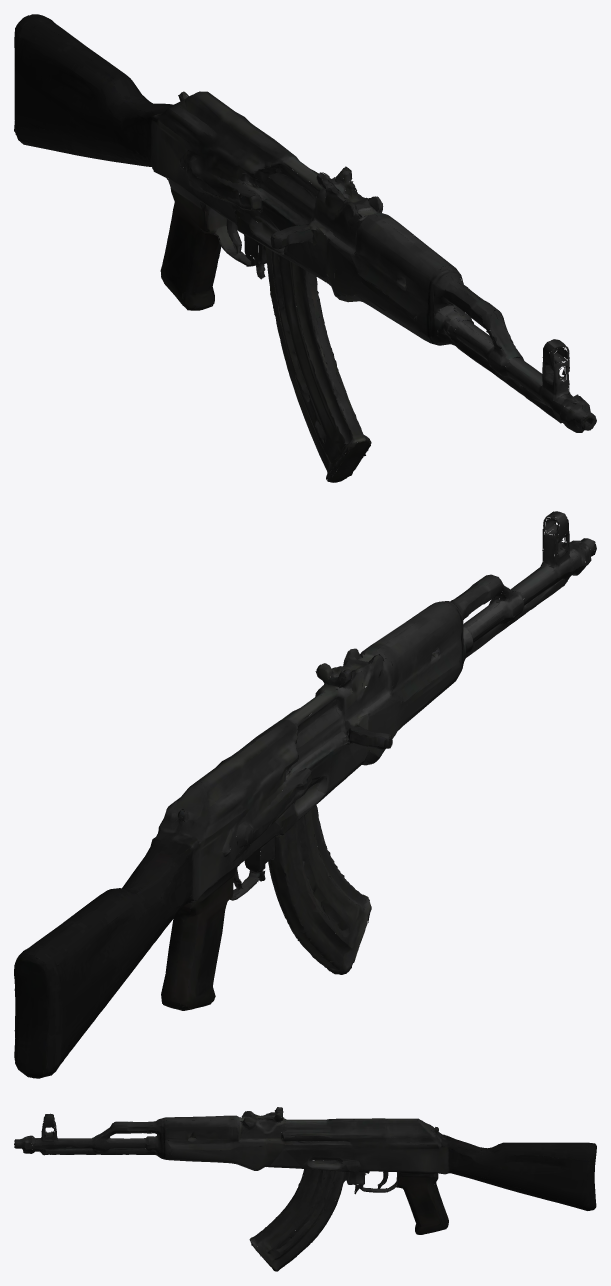
The model's file is akm.glb.
3 views of the same model, one above another, from view 1: azimuth 30°, elevation 25°; view 2: azimuth 150°, elevation 25°; view 3: azimuth 270°, elevation 25° (orthographic). The views are drawn at different scales.
Parts seen in each view (by area): view 1: akm; view 2: akm; view 3: akm.
Part boxes in pixels (box(x1,y1,x2,y2)): akm: box(14, 14, 596, 482); akm: box(14, 511, 596, 1078); akm: box(14, 1107, 596, 1271).
Bounding box in the file's own units: 0.0757 × 0.2677 × 0.88.
Materials: 1 (1 with a texture image).
